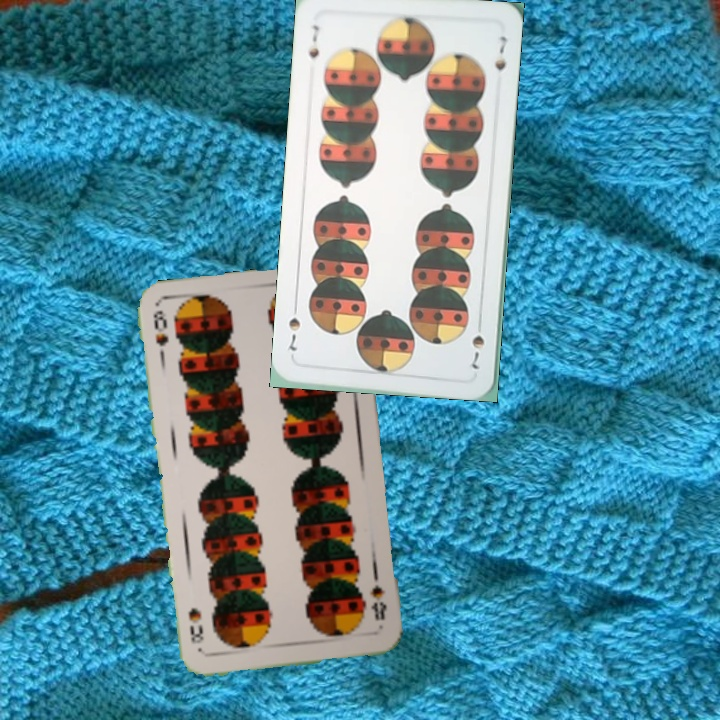S7: (467, 315, 487, 371), (305, 20, 322, 61)
S8: (149, 306, 171, 365), (366, 580, 389, 623)
